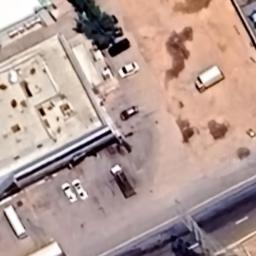sedan: (107, 38, 131, 58), (71, 178, 89, 202), (118, 60, 140, 78), (62, 182, 78, 204), (120, 106, 140, 122)
truck: (110, 163, 137, 199), (194, 64, 226, 94)
